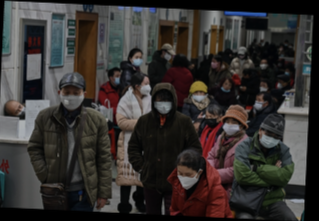mask_weared_incorrect: (220, 80, 232, 93)
with_mask: (58, 88, 84, 111), (175, 168, 198, 190), (259, 130, 281, 149), (152, 96, 173, 115), (221, 117, 240, 137), (203, 114, 219, 129), (13, 102, 26, 120), (191, 88, 205, 103), (138, 80, 151, 96), (253, 96, 264, 111), (132, 54, 143, 67), (258, 58, 269, 70), (112, 72, 120, 87), (162, 51, 172, 61), (277, 77, 284, 90), (210, 58, 218, 69), (259, 82, 267, 92), (283, 67, 291, 77), (241, 73, 249, 82), (237, 52, 244, 60)
